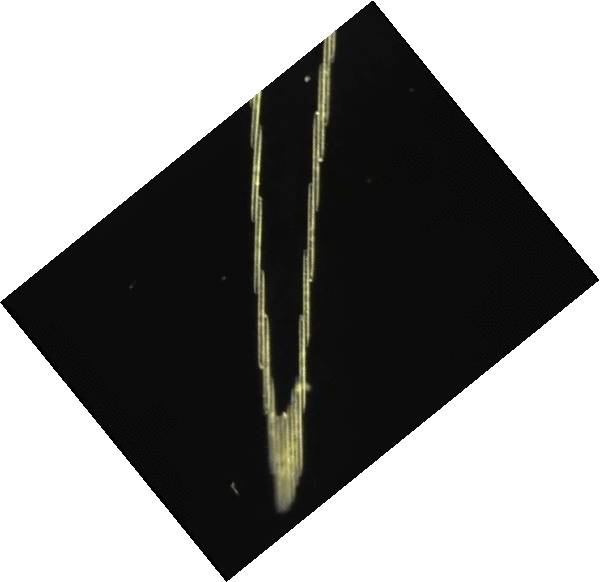bacilleria: (266, 377, 280, 472), (261, 315, 272, 412), (279, 413, 289, 512), (257, 271, 267, 368), (299, 315, 309, 411), (294, 380, 303, 479), (303, 250, 312, 346), (252, 127, 261, 221), (287, 410, 296, 501), (308, 182, 316, 282), (312, 112, 320, 211), (323, 38, 331, 125), (255, 197, 262, 293), (319, 66, 324, 161), (251, 97, 259, 147)
